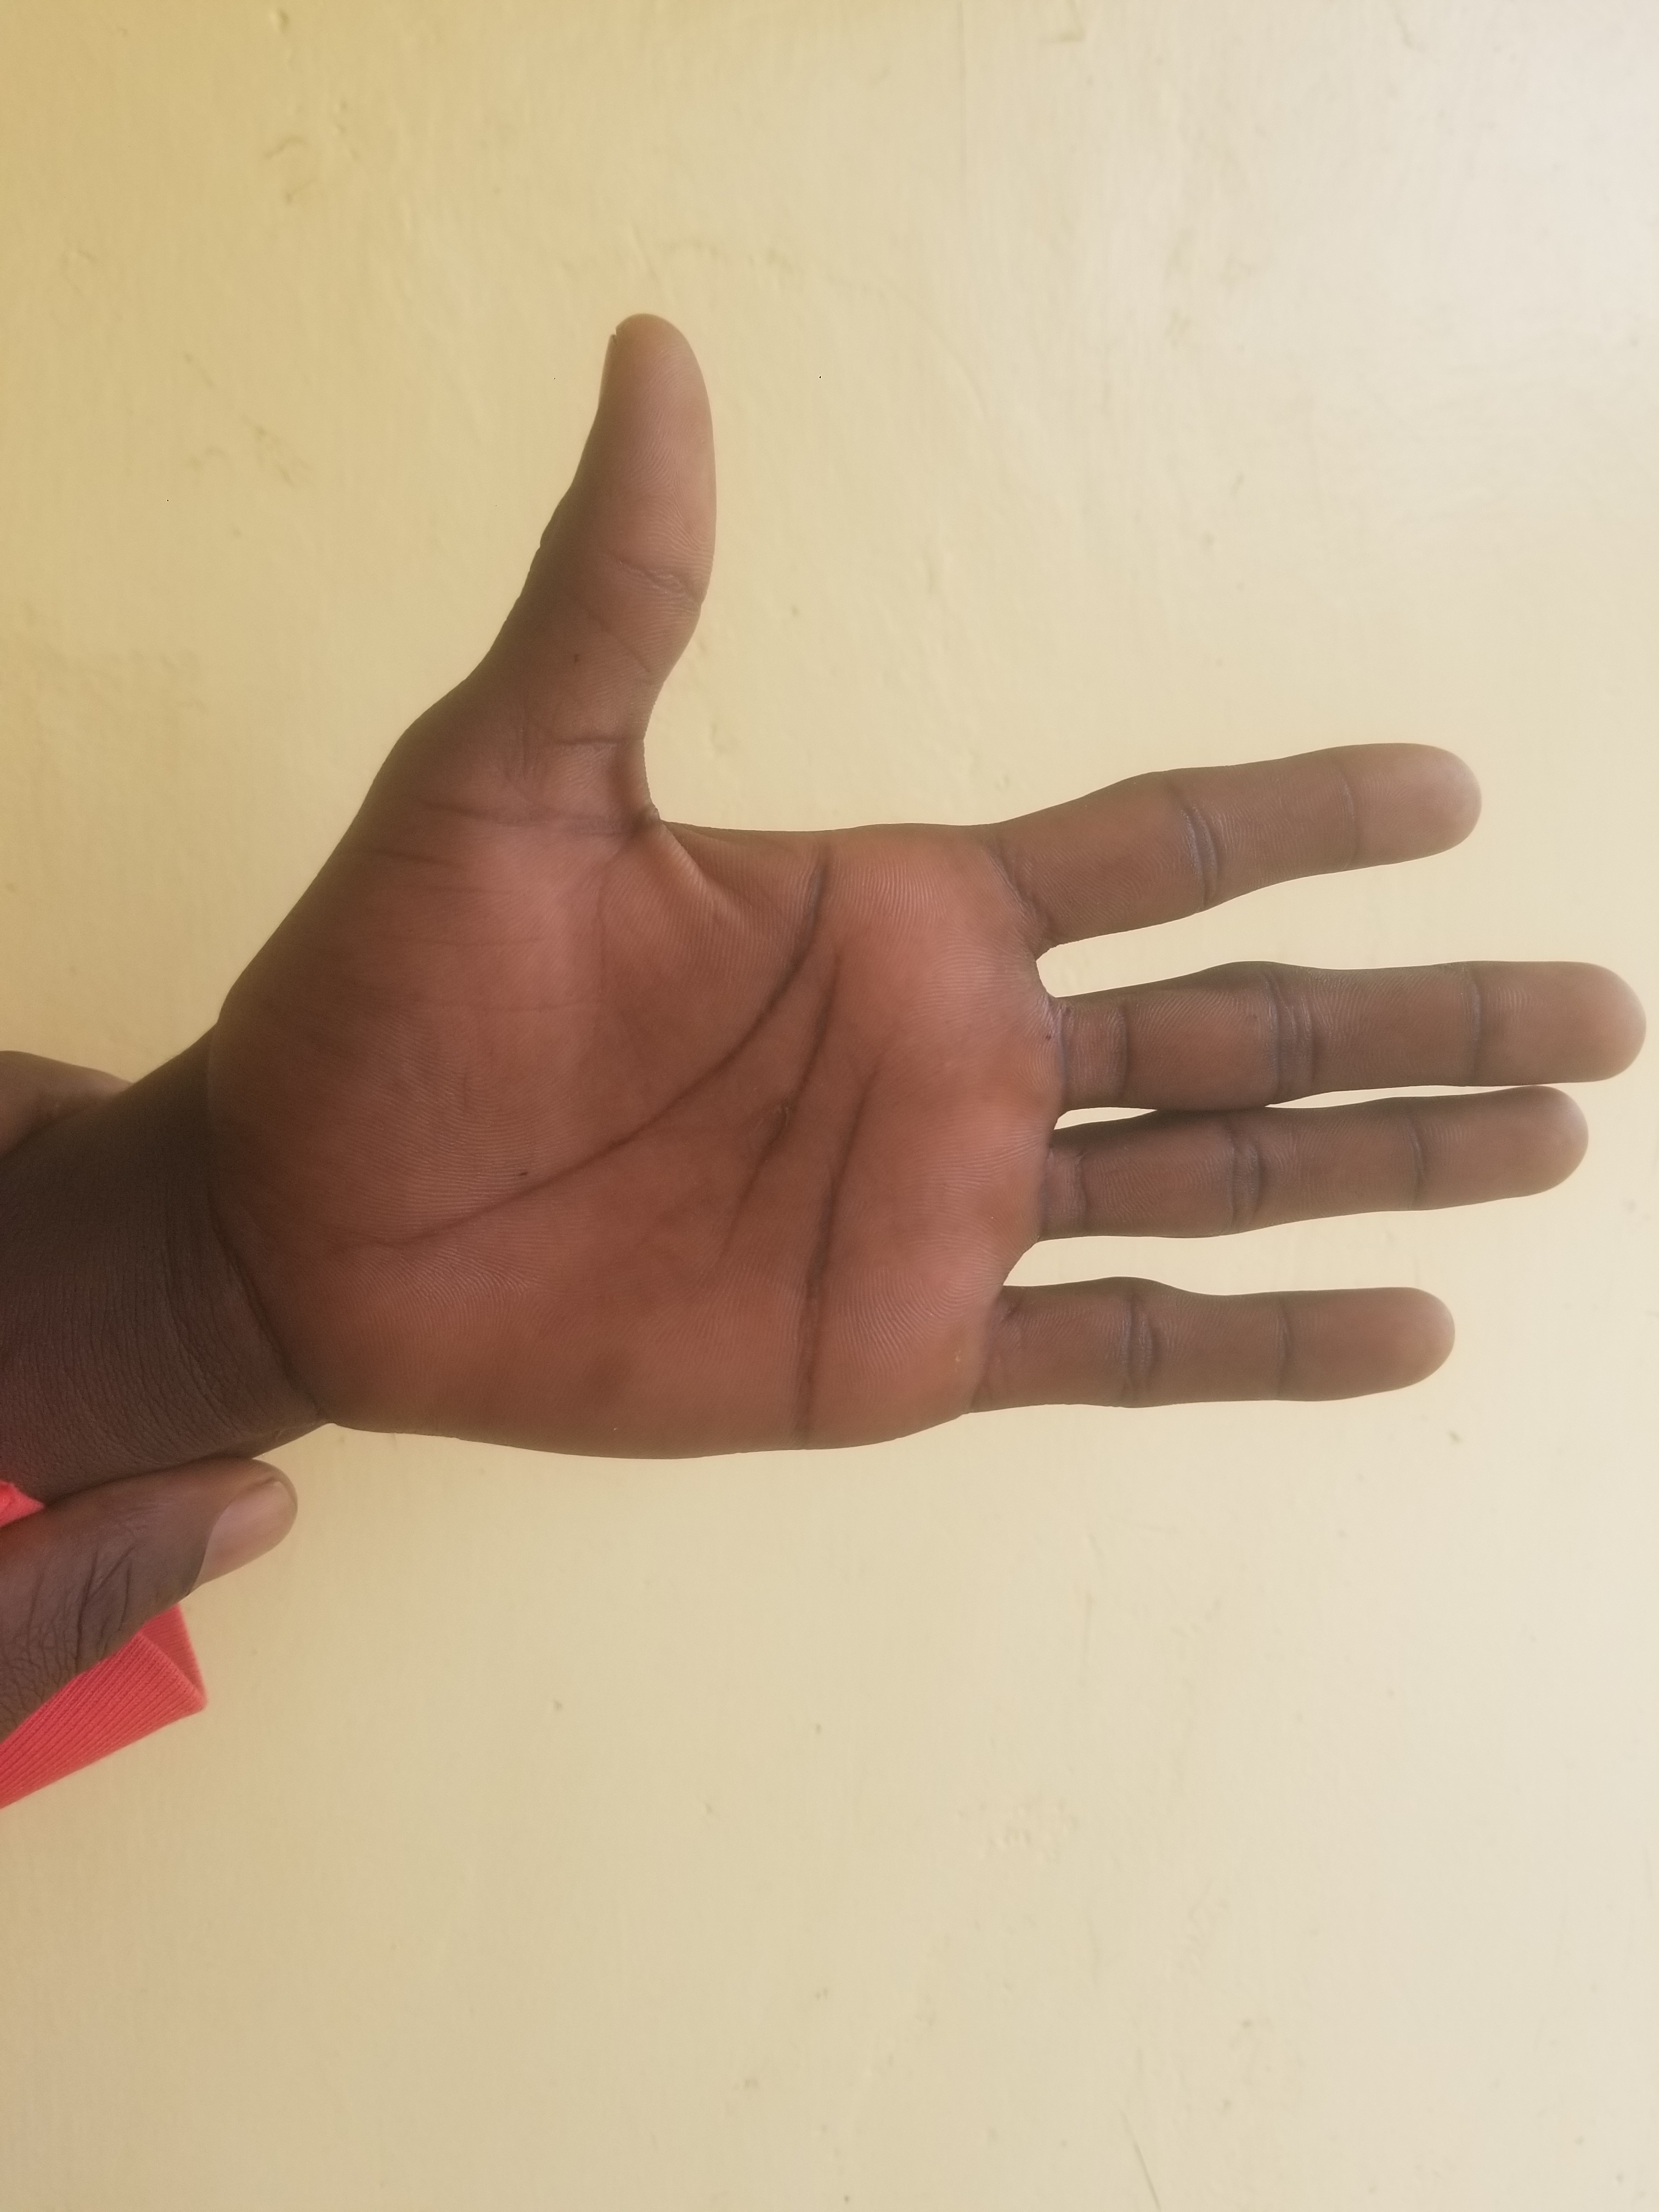open palm: (242, 430, 1659, 1763)
